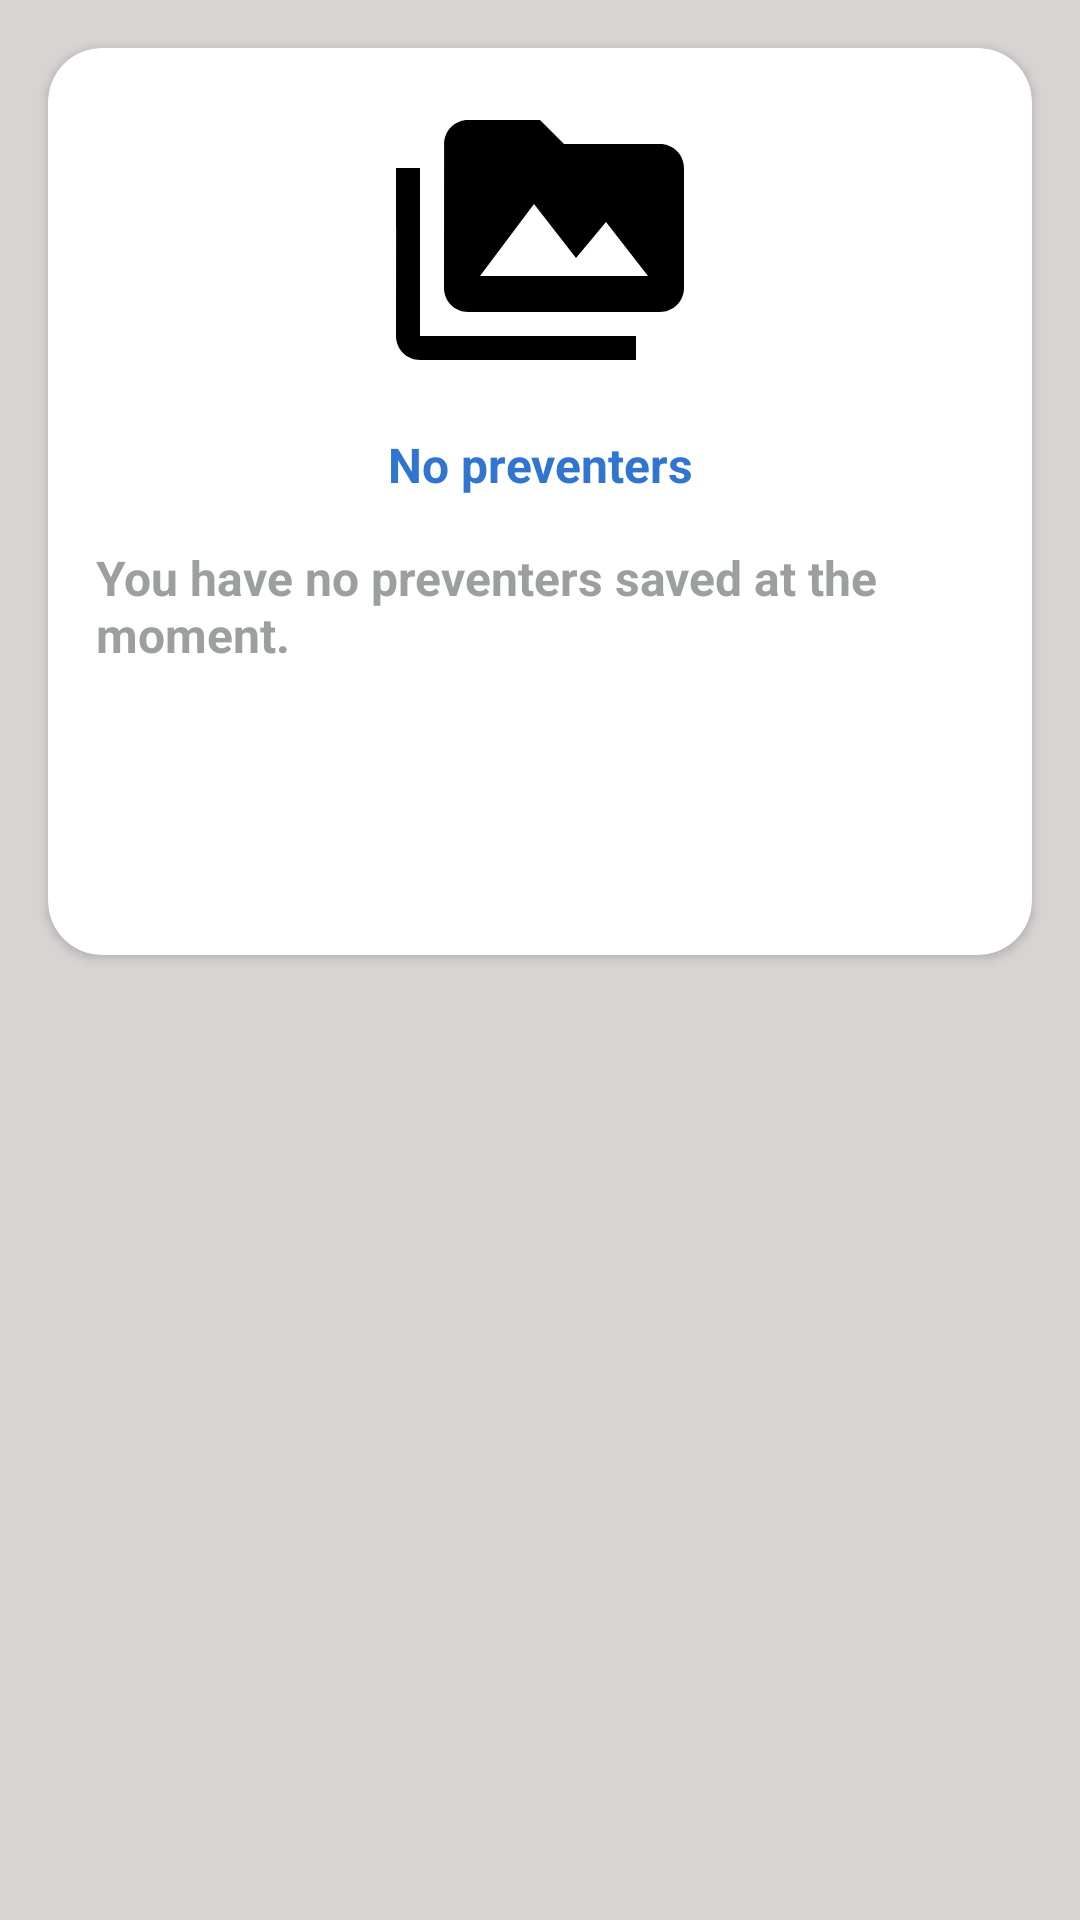

Icon bounding boxes for this 1080 x 1920 phone screenshot, format (x1, y1, x2, y2):
perm media: (396, 120, 684, 360)
